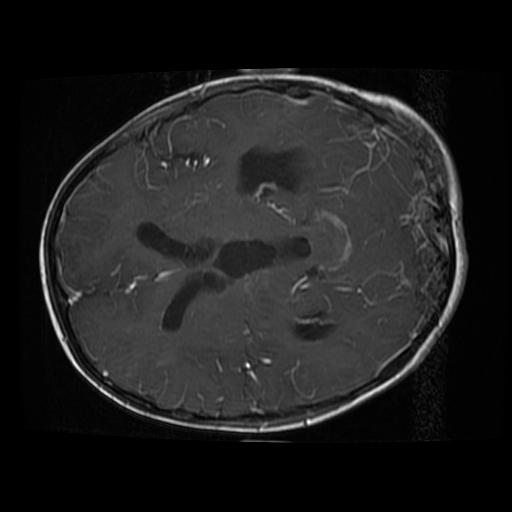glioma: (233, 142, 304, 198)
